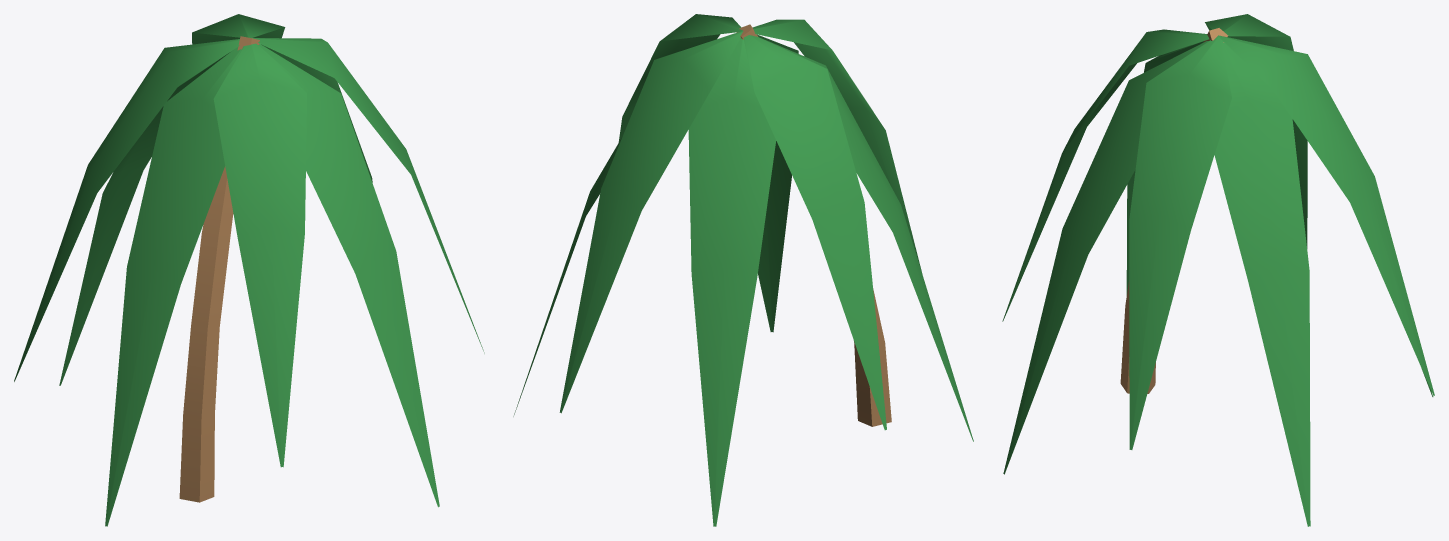
Rendered from lod_palm_coconut.glb.
The picture shows the model from 3 angles, left to right: view 1: azimuth 30°, elevation 25°; view 2: azimuth 150°, elevation 25°; view 3: azimuth 270°, elevation 25°; orthographic projection. The views are drawn at different scales.
Parts seen in each view (by area): view 1: lod_palm_coconut; view 2: lod_palm_coconut; view 3: lod_palm_coconut.
Part boxes in pixels (x1,y1,x2,y2): lod_palm_coconut: (14,14,484,526); lod_palm_coconut: (513,14,973,526); lod_palm_coconut: (1002,14,1434,526).
Bounding box in the file's own units: 6.13 × 6.32 × 6.13.
